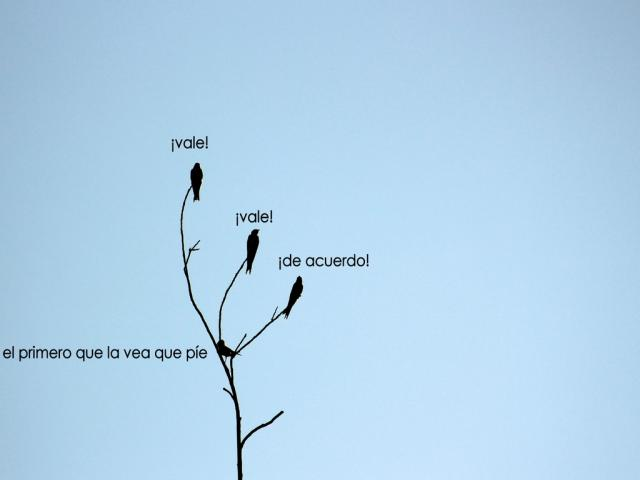Bird: (280, 270, 304, 317), (244, 225, 259, 274), (190, 160, 205, 200)
